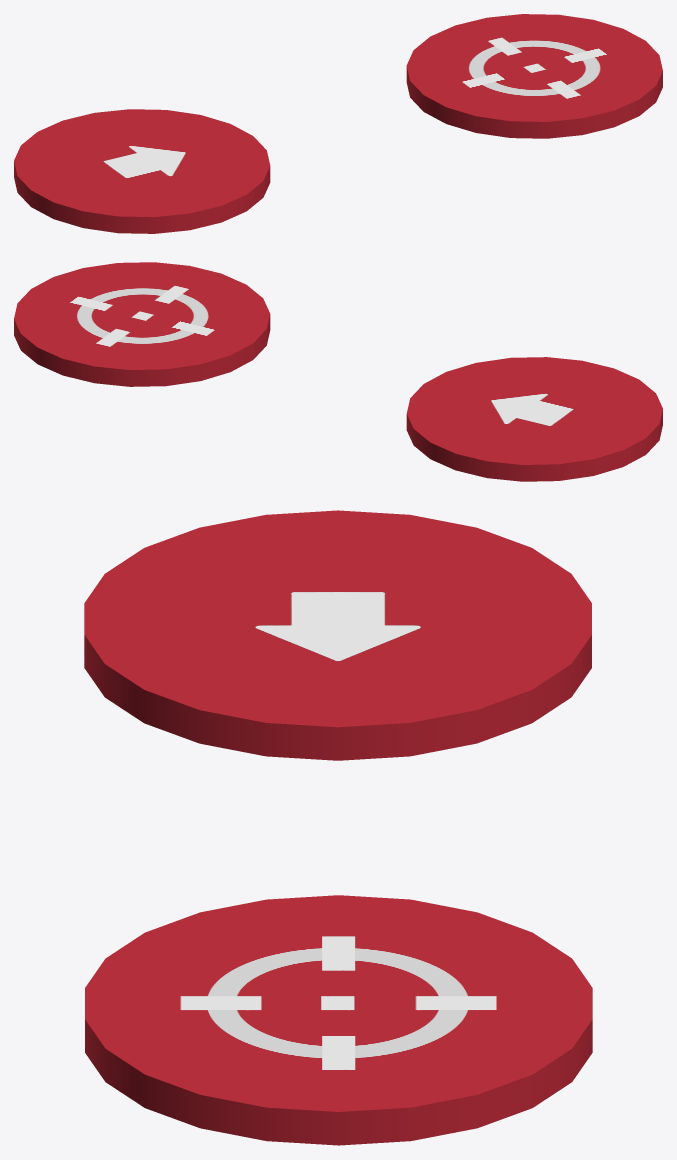
The model's file is Jump_points.fbx.
3 views of the same model, one above another, from view 1: azimuth 30°, elevation 25°; view 2: azimuth 150°, elevation 25°; view 3: azimuth 270°, elevation 25° (orthographic). The views are drawn at different scales.
Visible parts, largest first — view 1: jumping point, landing point; view 2: jumping point, landing point; view 3: jumping point, landing point.
Boxes of the visible parts, left/top/right/bottom form: jumping point: left=14, top=109, right=270, bottom=233; landing point: left=406, top=14, right=662, bottom=138; jumping point: left=406, top=357, right=662, bottom=481; landing point: left=14, top=262, right=270, bottom=386; jumping point: left=84, top=510, right=591, bottom=760; landing point: left=85, top=895, right=592, bottom=1145.
Bounding box in the file's own units: 2.31 × 0.0631 × 0.8287.
Materials: 2 (2 with a texture image).
